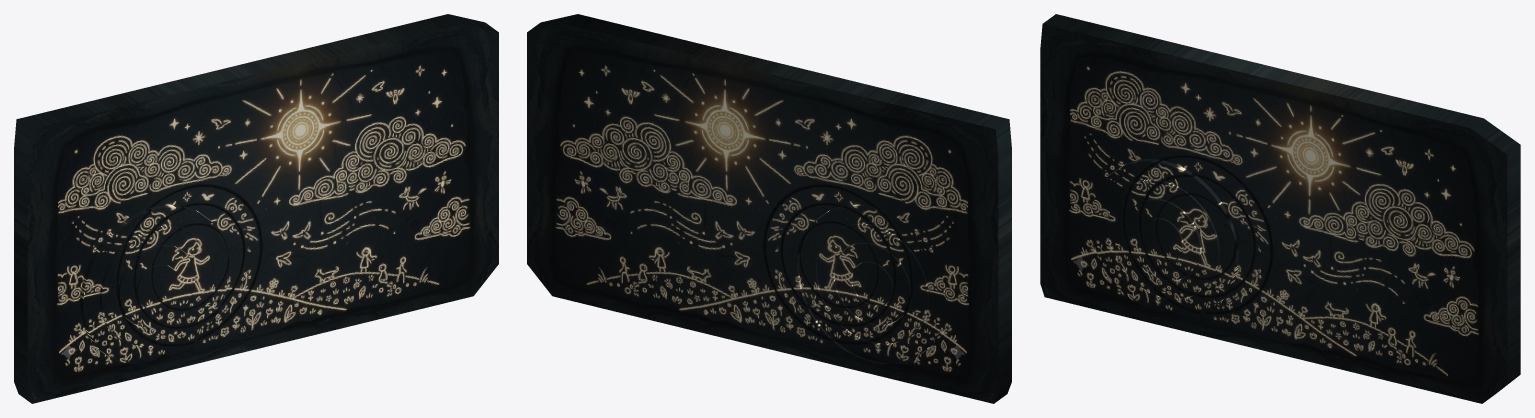
The model's file is Eurydice_MuralPuzzle_03_FlowerHill.obj.
3 views of the same model, side by side, from view 1: azimuth 30°, elevation 25°; view 2: azimuth 150°, elevation 25°; view 3: azimuth 330°, elevation 25° (orthographic).
Visible parts, largest first — view 1: Main_Wall, Ring_4_Outer, Ring_3_Middle, Ring_2_Inner, Ring_1_Center; view 2: Main_Wall, Ring_4_Outer, Ring_3_Middle, Ring_2_Inner, Ring_1_Center; view 3: Main_Wall, Ring_4_Outer, Ring_3_Middle, Ring_2_Inner, Ring_1_Center.
Boxes of the visible parts, box(x1,y1,x2,y2) form: Main_Wall: box(14, 14, 498, 403); Ring_4_Outer: box(80, 205, 229, 364); Ring_3_Middle: box(100, 225, 212, 345); Ring_2_Inner: box(118, 245, 195, 327); Ring_1_Center: box(136, 264, 177, 308); Main_Wall: box(527, 14, 1011, 403); Ring_4_Outer: box(799, 205, 945, 362); Ring_3_Middle: box(817, 223, 928, 343); Ring_2_Inner: box(834, 242, 910, 324); Ring_1_Center: box(852, 261, 893, 305); Main_Wall: box(1040, 14, 1520, 403); Ring_4_Outer: box(1091, 159, 1239, 317); Ring_3_Middle: box(1108, 179, 1219, 298); Ring_2_Inner: box(1125, 198, 1201, 280); Ring_1_Center: box(1142, 217, 1183, 261).
Bounding box in the file's own units: 8 × 4.47 × 0.505.
1 material, 1 textured.
